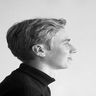ear: (30, 41, 49, 61)
